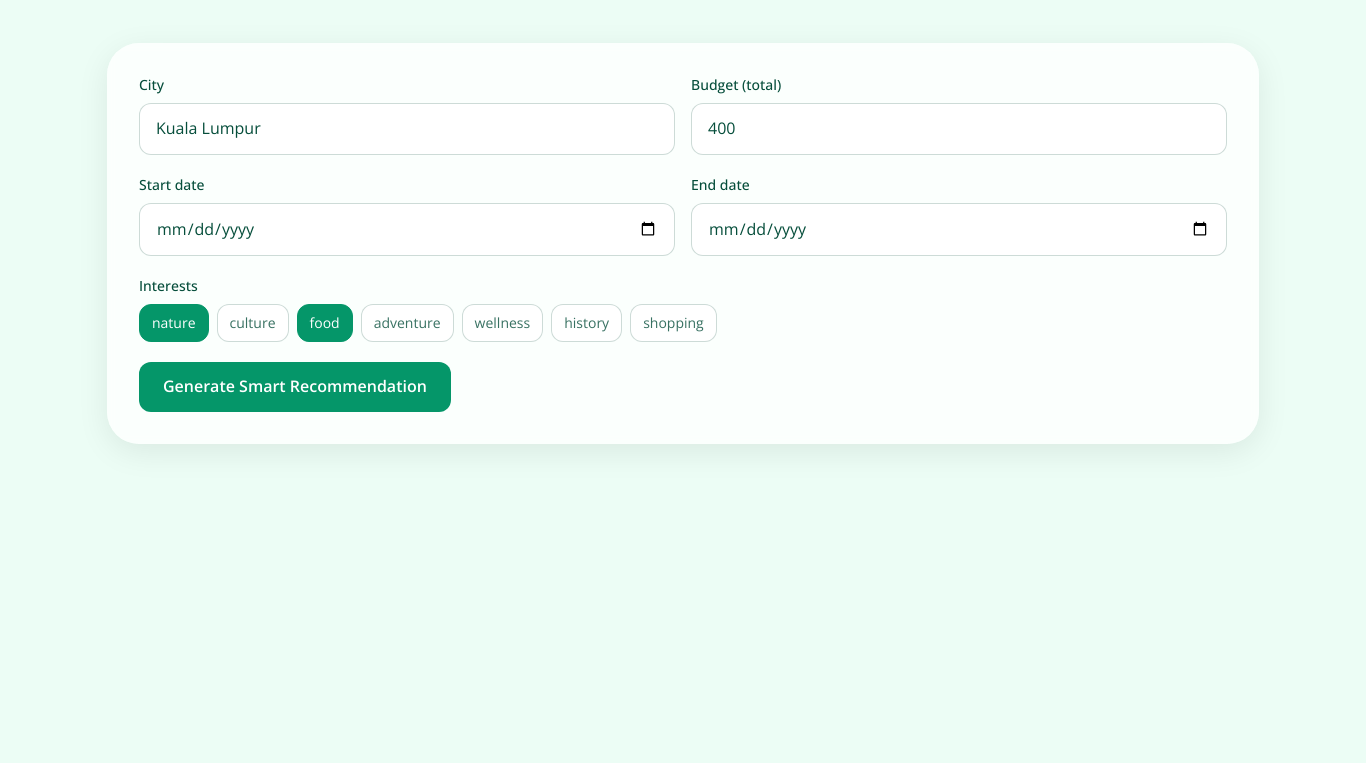
it: SmartRecommendationSection › renders successful recommendation results
Replace the text in the field labelled "City" with "Kyoto" at (407, 129), box [139,103,675,155]
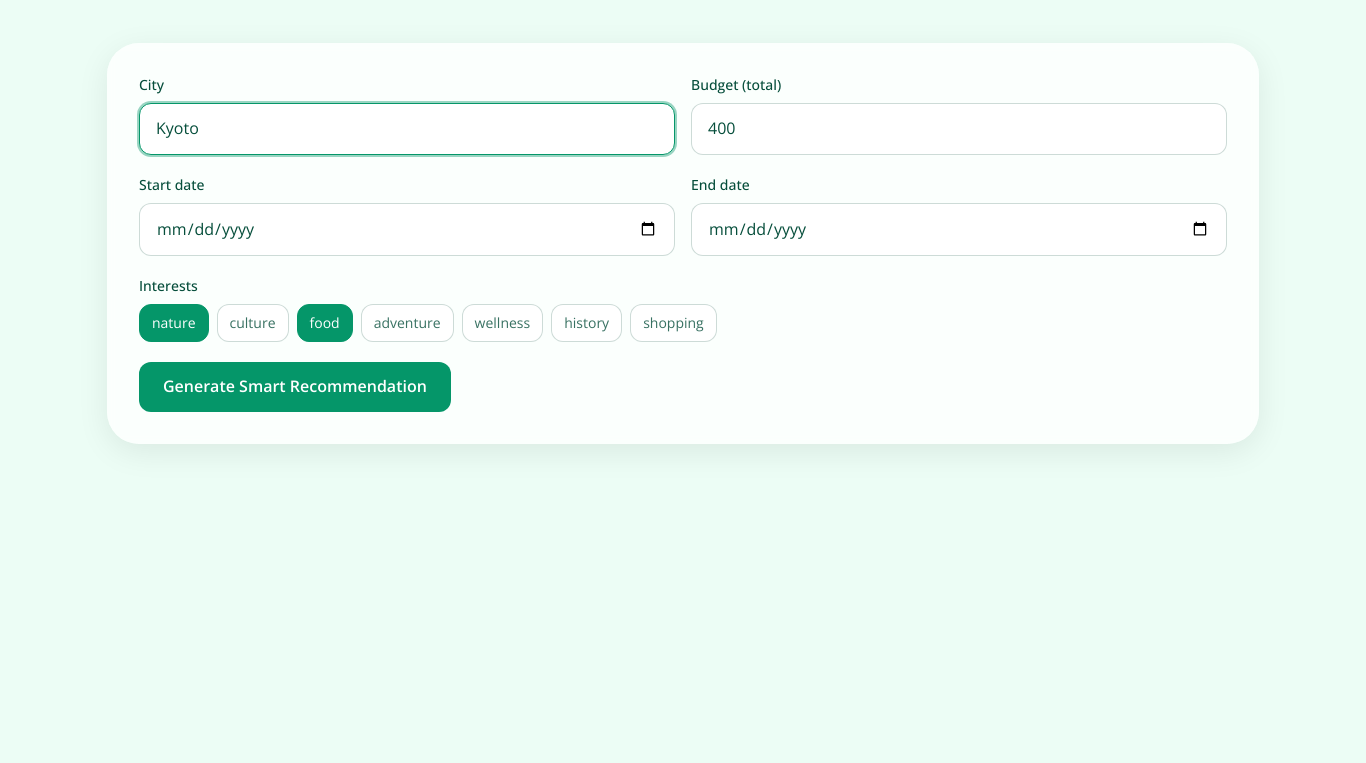
Type "2026-06-20" into the date field labelled "Start date" at (407, 229), box [139,203,675,256]
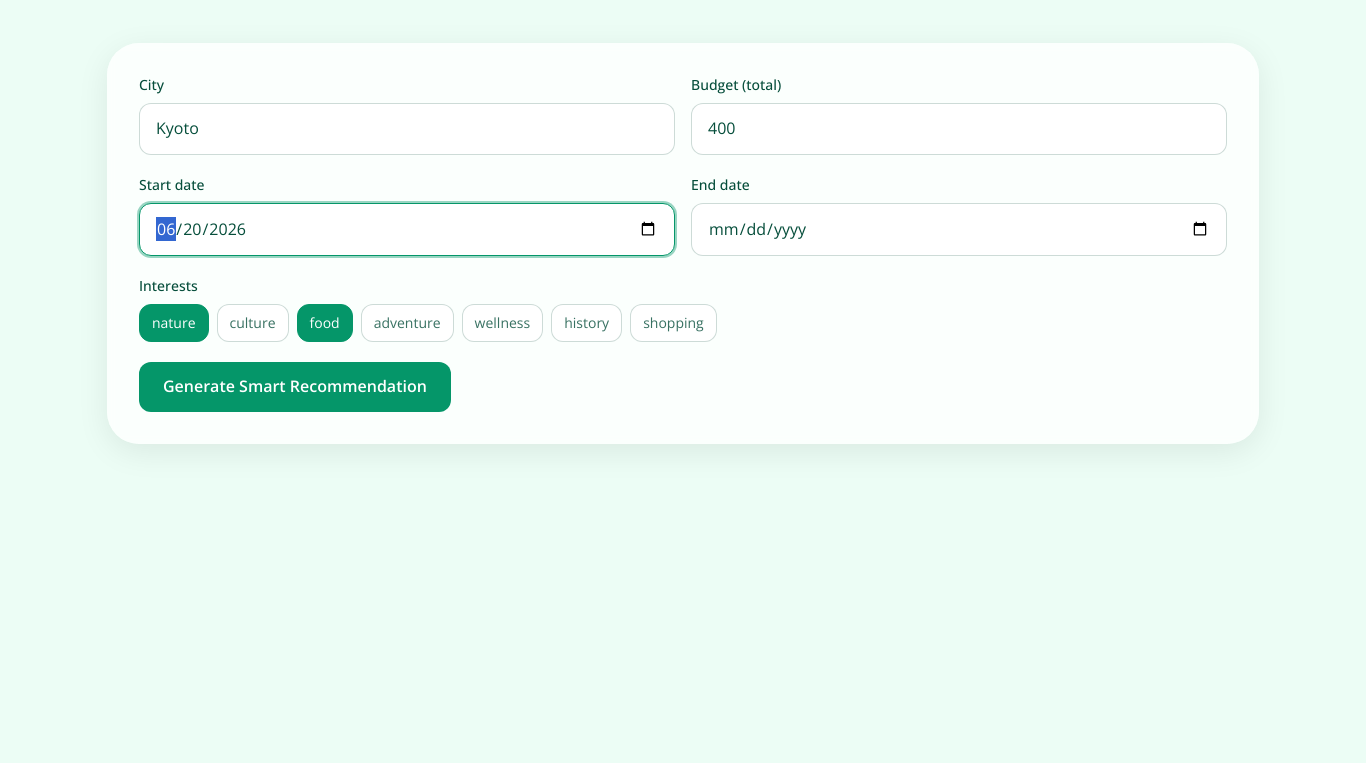
Type "2026-06-22" into the date field labelled "End date" at (959, 229), box [691,203,1227,256]
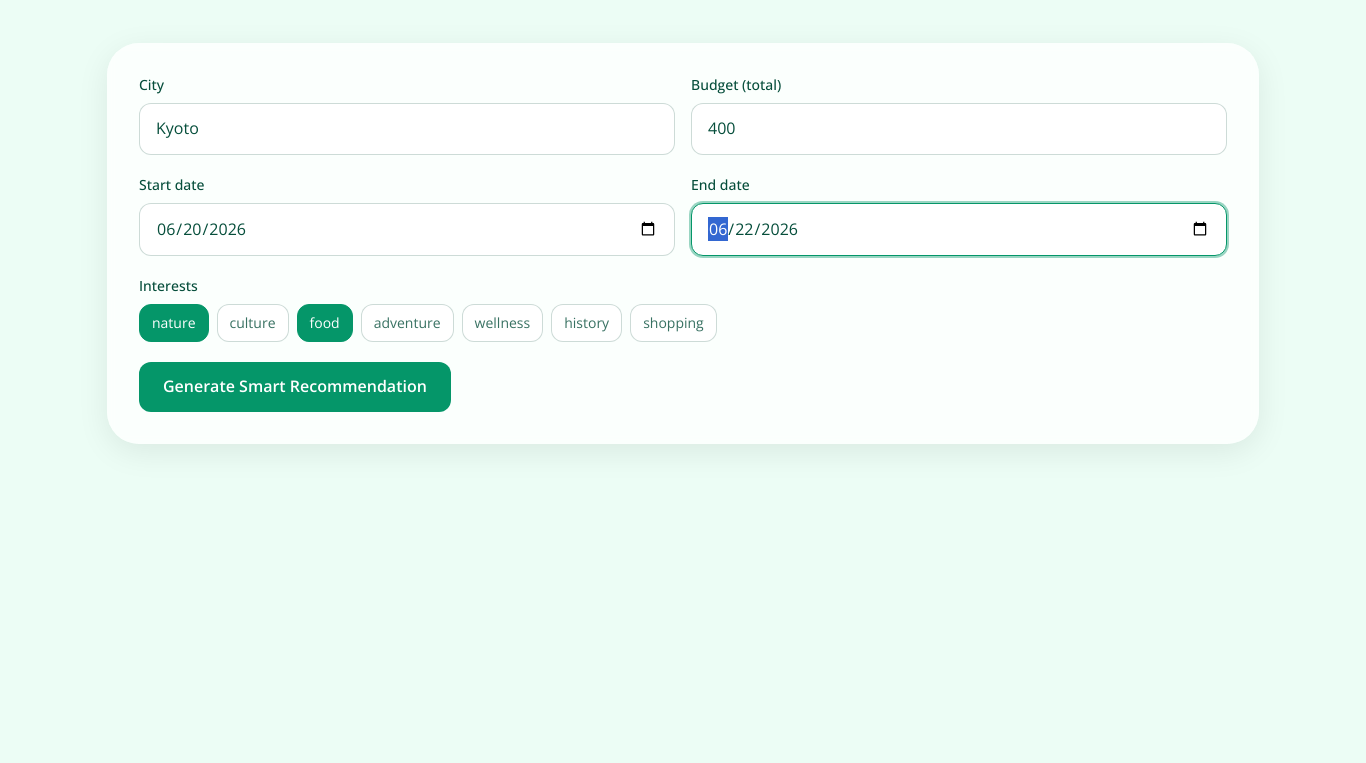
Click the button "Generate Smart Recommendation" at (295, 387), box [139,362,451,412]
(page scrolled)
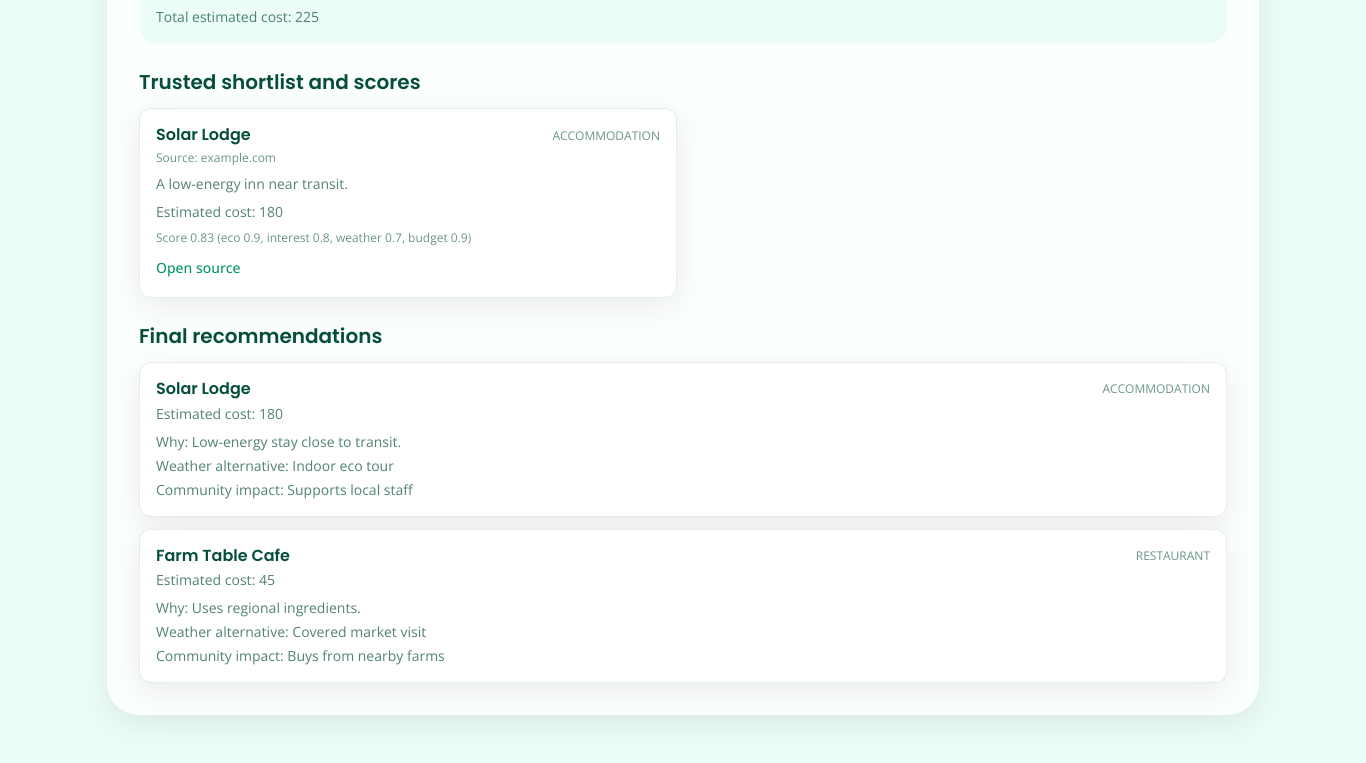
Expected: the number of headings "Solar Lodge" is 2, [156,125,251,146]; [156,379,251,400]
Expected: the heading "Farm Table Cafe" is shown, [156,546,290,566]
Expected: the text "Why: Uses regional ingredients." is shown, [156,598,361,617]
